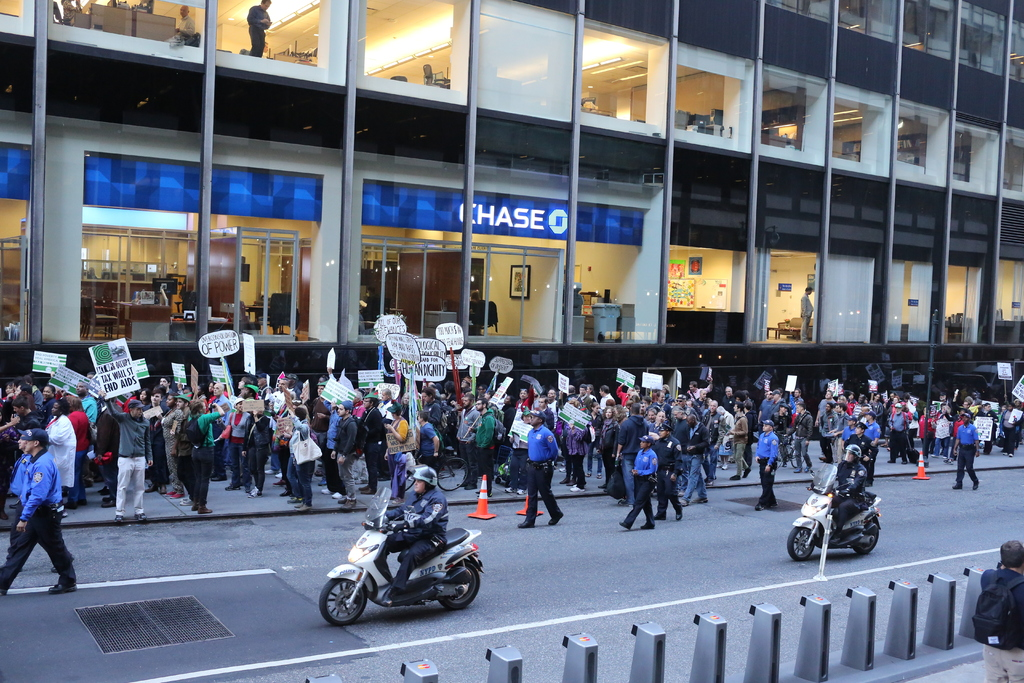Motorcycle: (320, 485, 487, 625), (801, 472, 884, 574)
